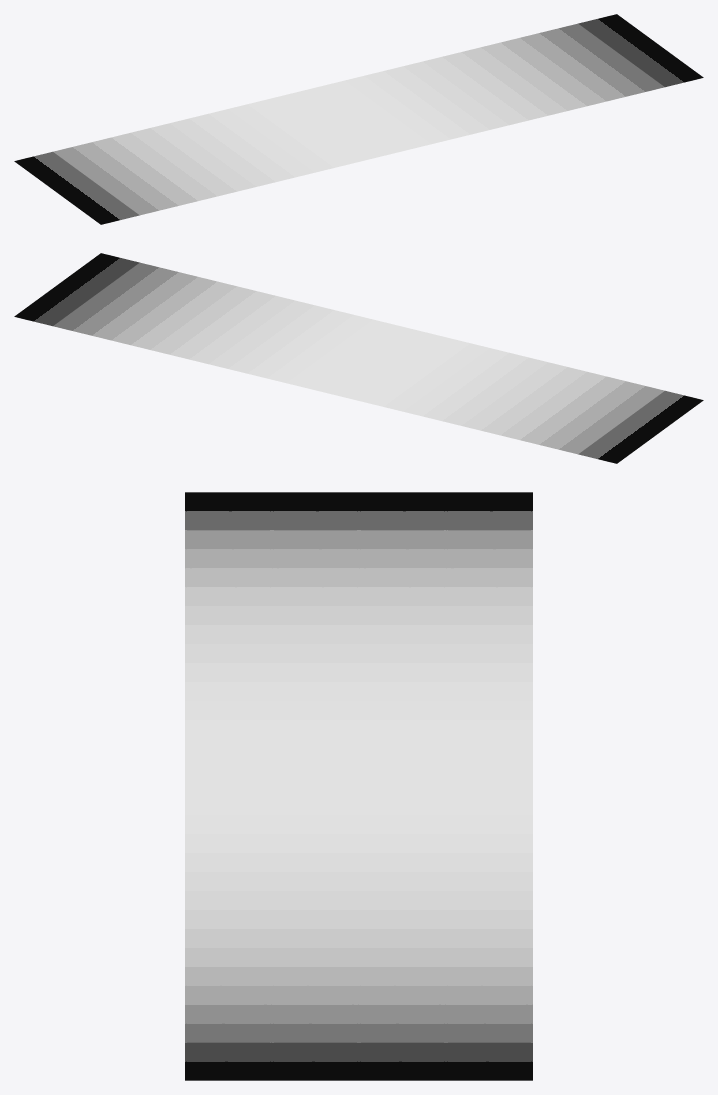
The model's file is bars.glb.
3 views of the same model, one above another, from view 1: azimuth 30°, elevation 25°; view 2: azimuth 150°, elevation 25°; view 3: azimuth 270°, elevation 25° (orthographic). The views are drawn at different scales.
Parts seen in each view (by area): view 1: bars; view 2: bars; view 3: bars.
Part boxes in pixels (bbox=[...]): bars: bbox=[14, 14, 703, 224]; bars: bbox=[14, 253, 703, 463]; bars: bbox=[185, 492, 532, 1080].
Size of the model in its own units: 4 by 0 by 1.
Materials: 1 (1 with a texture image).
